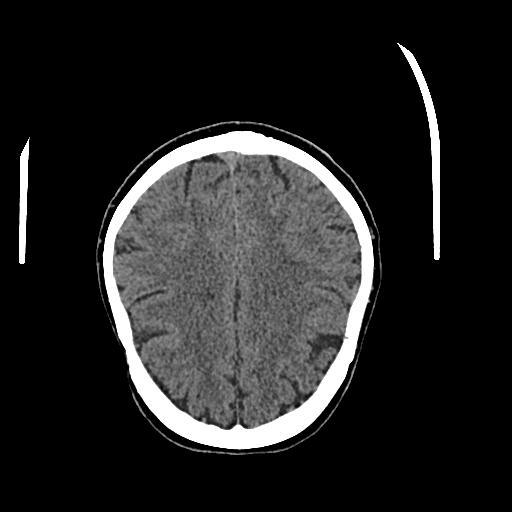Normal_Brain: (94, 120, 387, 459)
